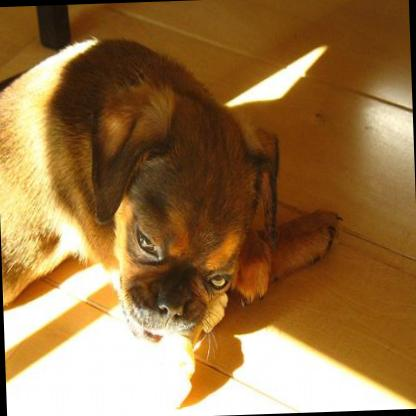Brabancon_griffon: (0, 25, 350, 358)
